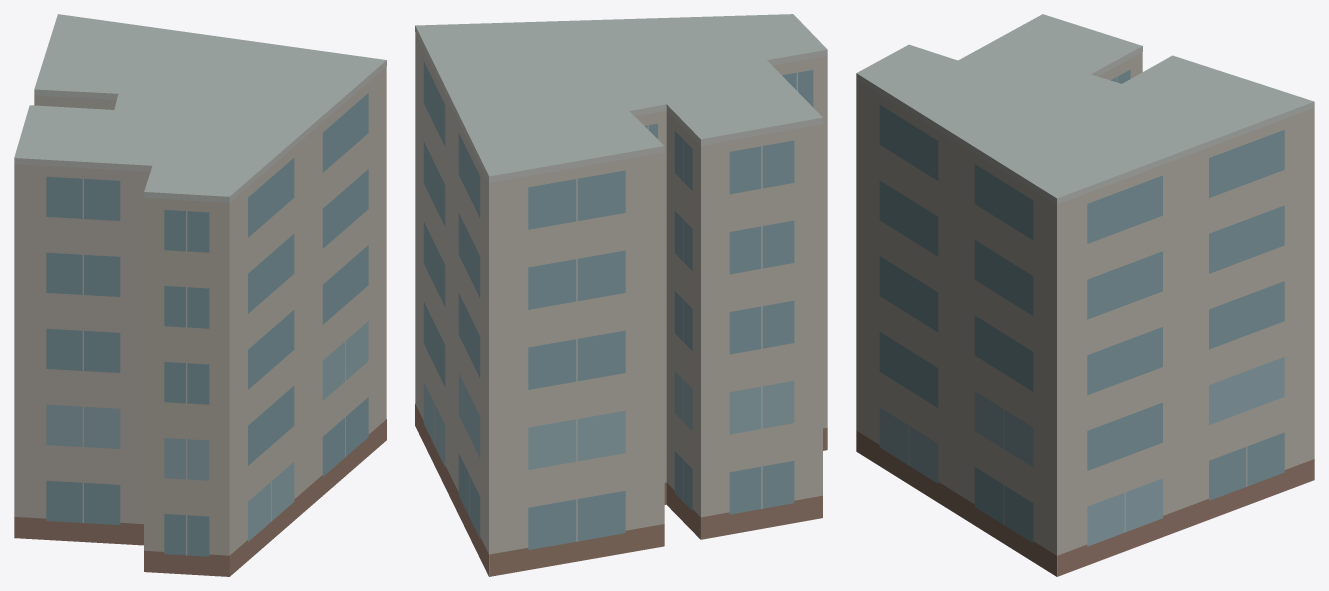
The model's file is survey-upis-32771917.glb.
3 views of the same model, side by side, from view 1: azimuth 30°, elevation 25°; view 2: azimuth 150°, elevation 25°; view 3: azimuth 270°, elevation 25° (orthographic). The views are drawn at different scales.
Visible parts, largest first — view 1: survey-upis-32771917.tmp; view 2: survey-upis-32771917.tmp; view 3: survey-upis-32771917.tmp.
Boxes of the visible parts, <box> form: survey-upis-32771917.tmp: <box>14,14,386,576</box>; survey-upis-32771917.tmp: <box>415,14,827,576</box>; survey-upis-32771917.tmp: <box>856,14,1314,576</box>.
Size of the model in its own units: 15.96 by 15.25 by 16.75.
